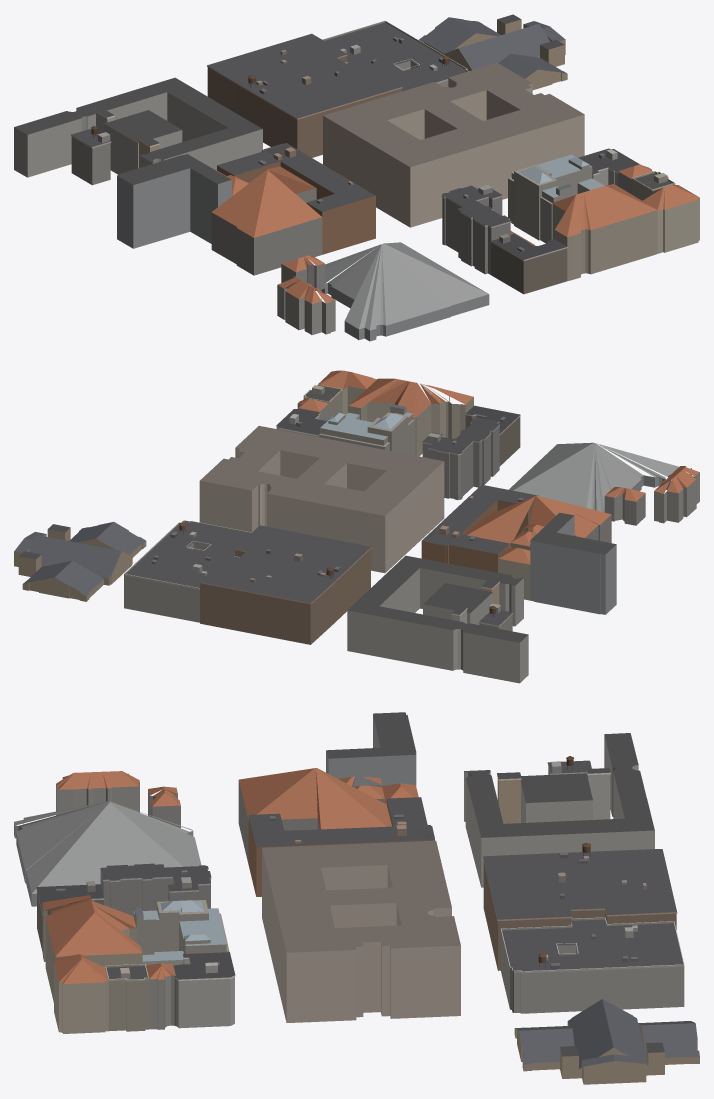
File: 3_-2.bld.glb
The picture shows the model from 3 angles, top to bottom: view 1: azimuth 30°, elevation 25°; view 2: azimuth 150°, elevation 25°; view 3: azimuth 270°, elevation 25°; orthographic projection. The views are drawn at different scales.
Parts seen in each view (by area): view 1: 3_-2; view 2: 3_-2; view 3: 3_-2.
Part boxes in pixels (x1,y1,x2,y2): 3_-2: (14,14,699,341); 3_-2: (14,370,699,683); 3_-2: (14,712,699,1084).
Bounding box in the file's own units: 313 × 39.56 × 300.
